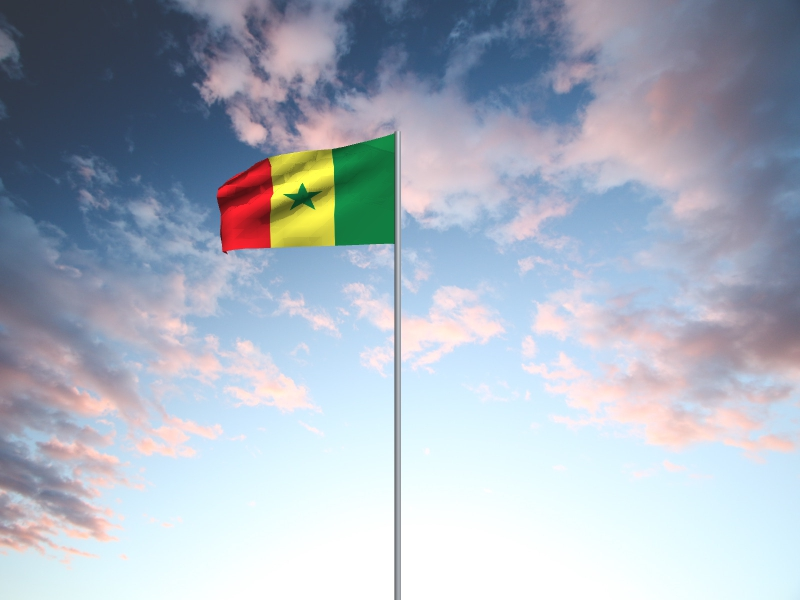sn: (217, 133, 395, 256)
